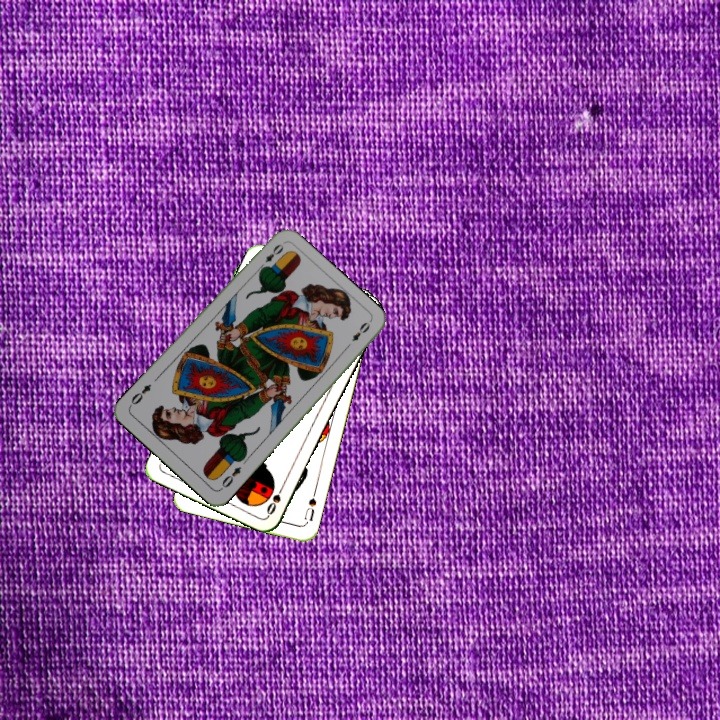EO: (254, 240, 286, 273), (216, 462, 244, 493)
SO: (262, 479, 287, 518)
SU: (300, 487, 319, 527)
